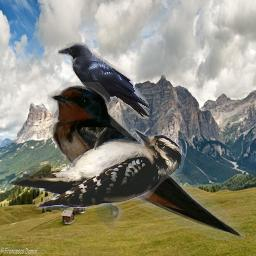Crow: (57, 42, 149, 119)
Swallow: (46, 82, 245, 240)
Woodpecker: (7, 127, 193, 215)
